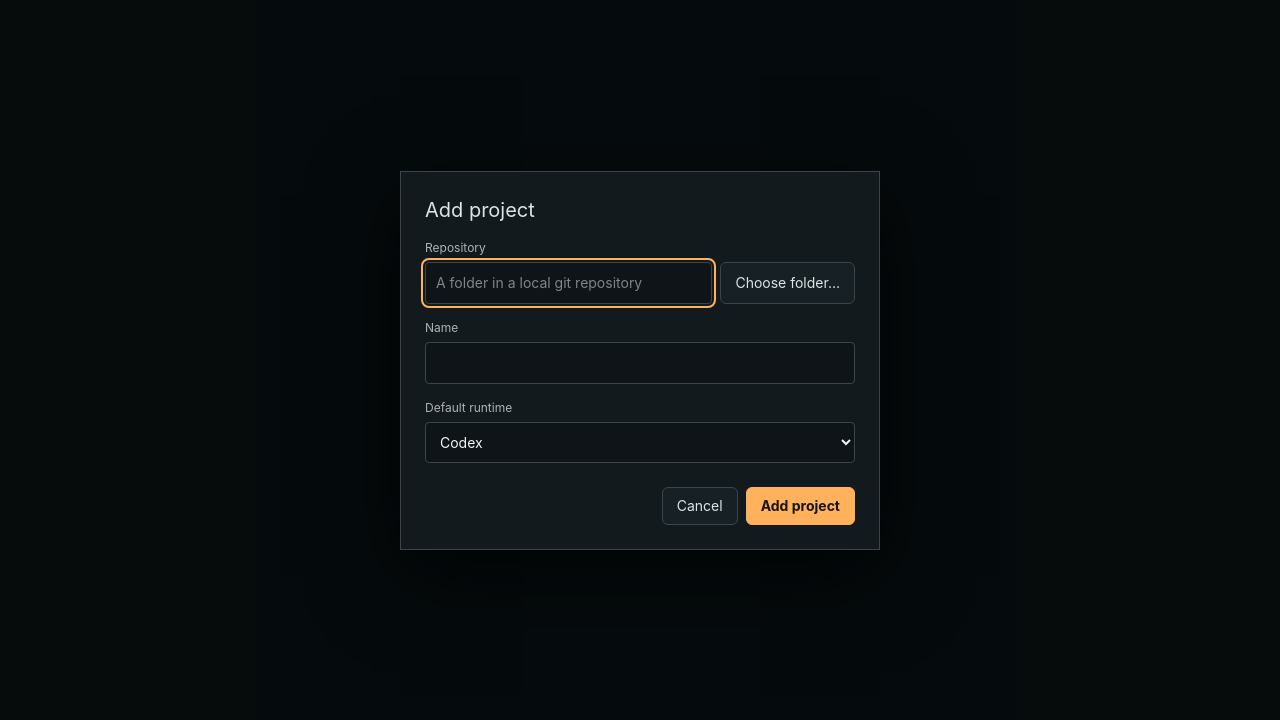
Scenario: AddProjectDialog › shows a refusal from Go when adding fails
In the field named "Repository folder": (569, 282) [425,262,712,304], type "/src/bakery"
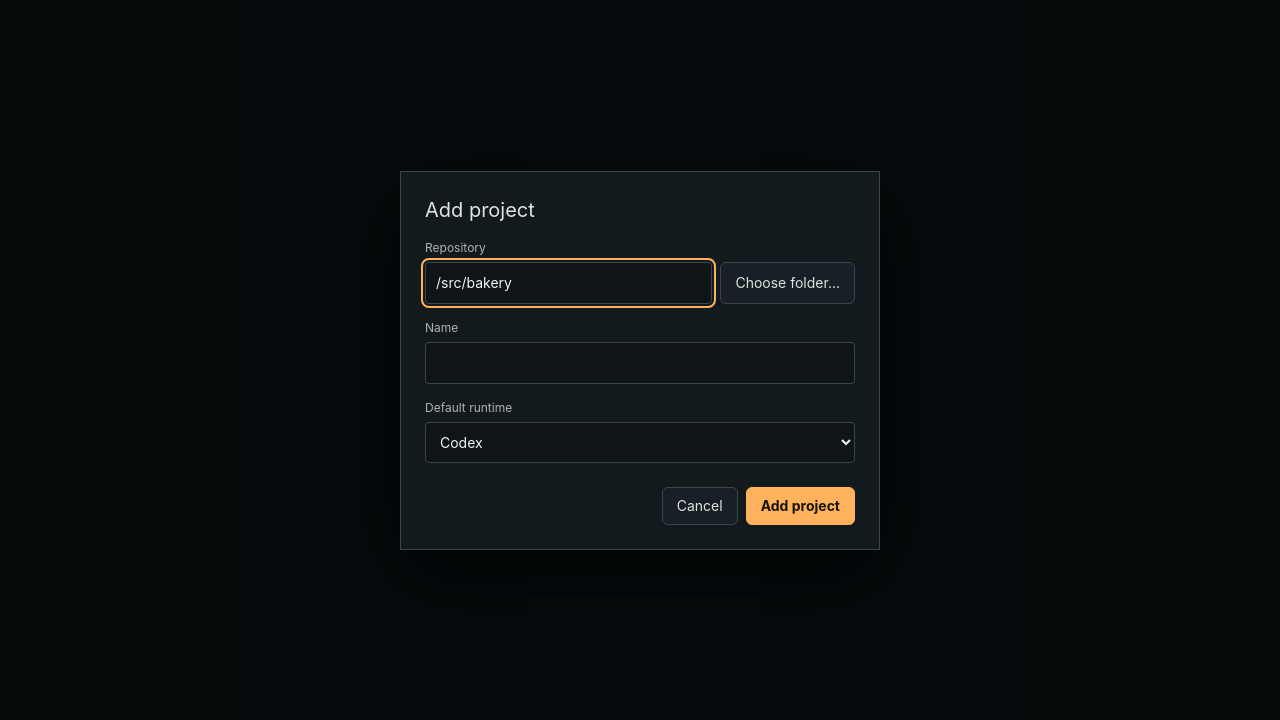
Leave the field named "Repository folder", box [425,262,712,304]
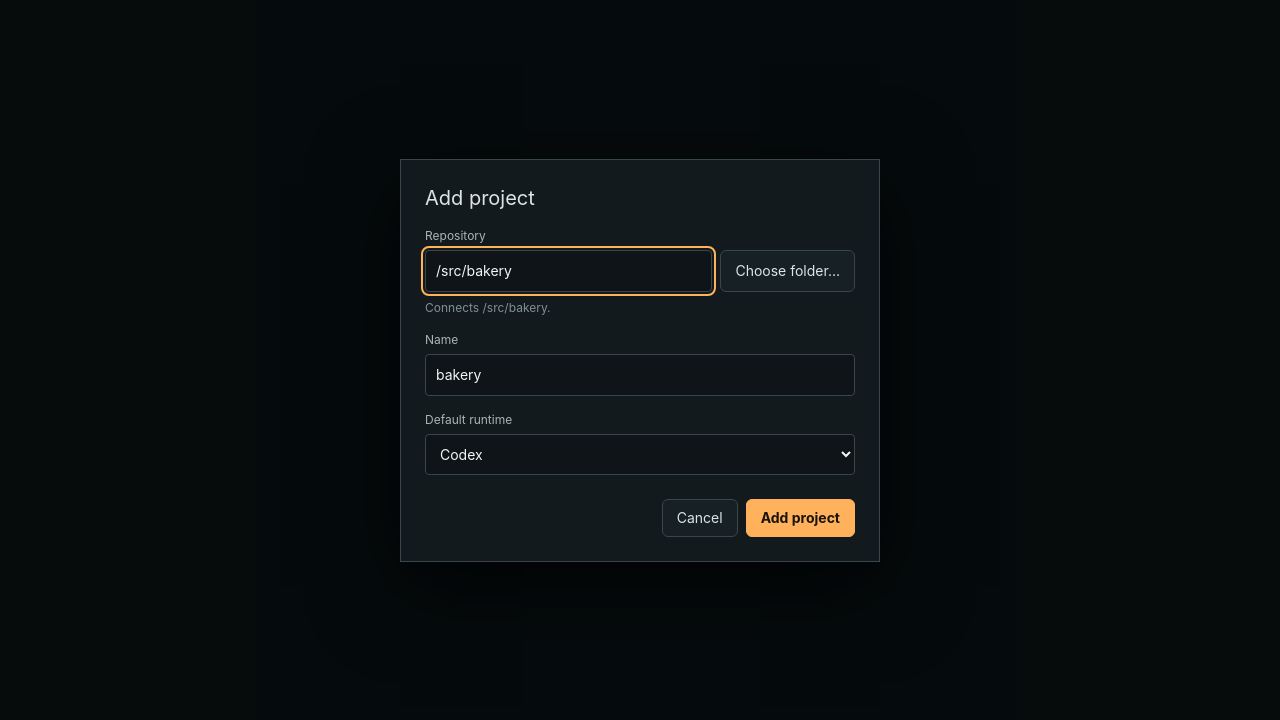
Now the message "Connects /src/bakery." is shown, box [425,300,551,314]
Click the button "Add project": (800, 518) [746,498,855,536]
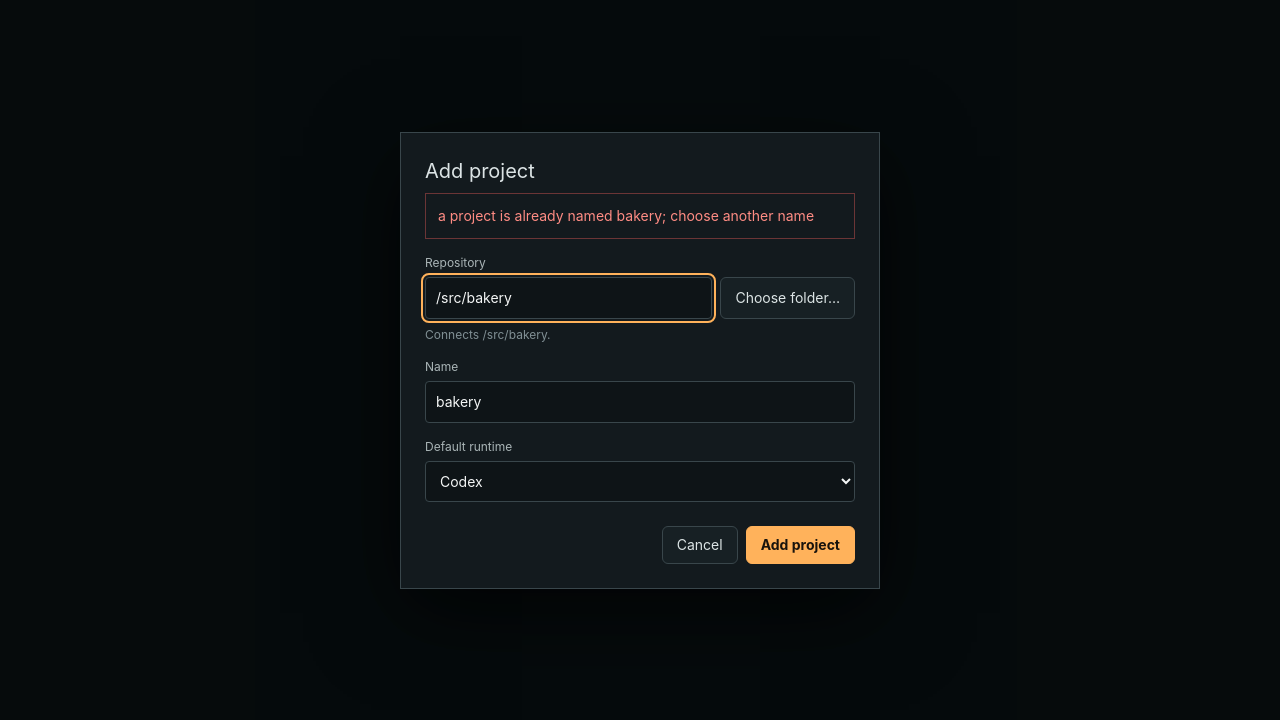
Now the message "a project is already named bakery; choose another name" shows "already named bakery", box [438,206,814,224]
